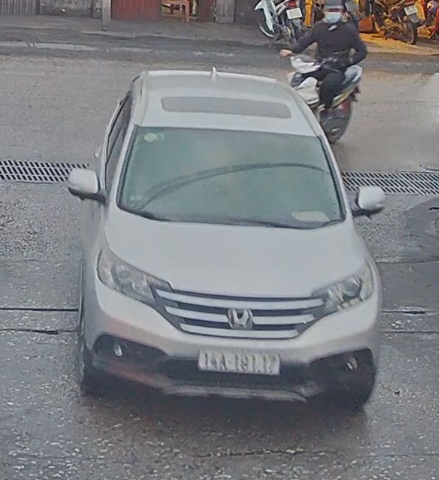vehicle plate: (191, 342, 281, 379)
